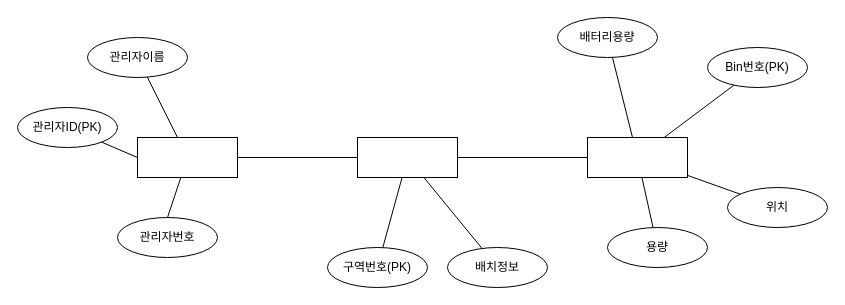
Some shapes in this 845 by 305 pixel diagram are drawn without their labels. Here are the shapes that lost their labels. From the top down, the centre of each, then its label:
At point 187,157: "관리자".
At point 407,157: "구역".
At point 637,157: "Smart-bin".
